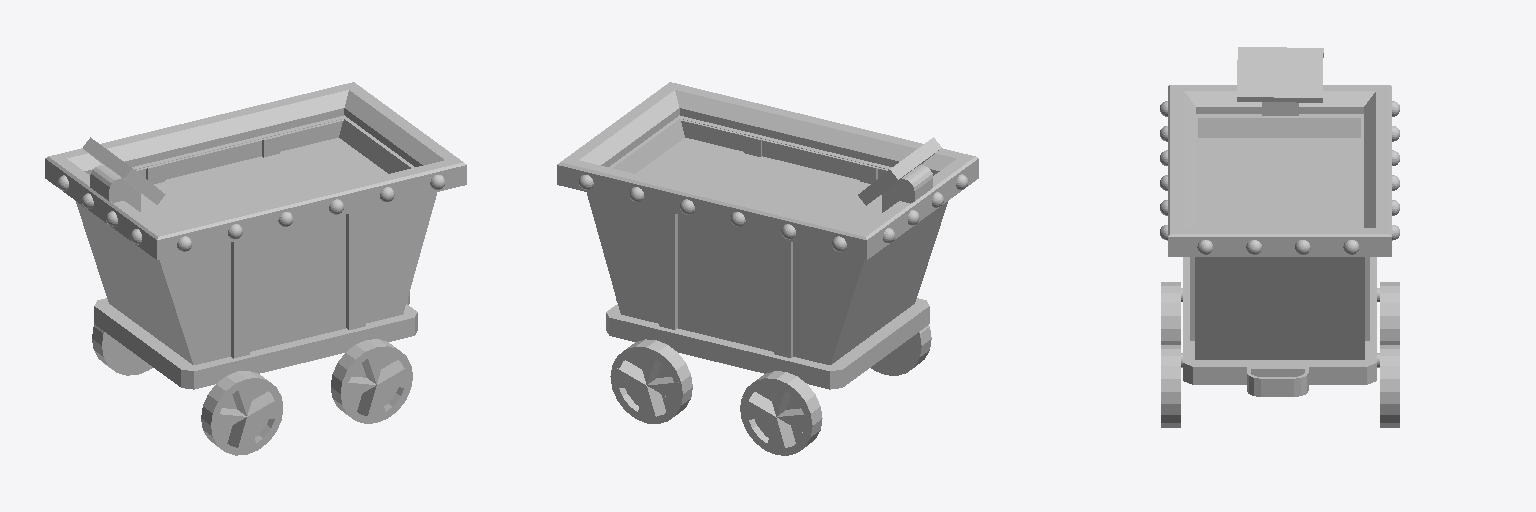
File: cartelevated.obj
3 renders of one model, left to right at view 1: azimuth 30°, elevation 25°; view 2: azimuth 150°, elevation 25°; view 3: azimuth 270°, elevation 25°, orthographic.
Parts seen in each view (by area): view 1: cart1; view 2: cart1; view 3: cart1.
Part boxes in pixels (x1,y1,x2,y2): cart1: (45,82,466,455); cart1: (557,82,978,455); cart1: (1160,47,1399,427).
Size of the model in its own units: 92.5 by 75.73 by 59.52.